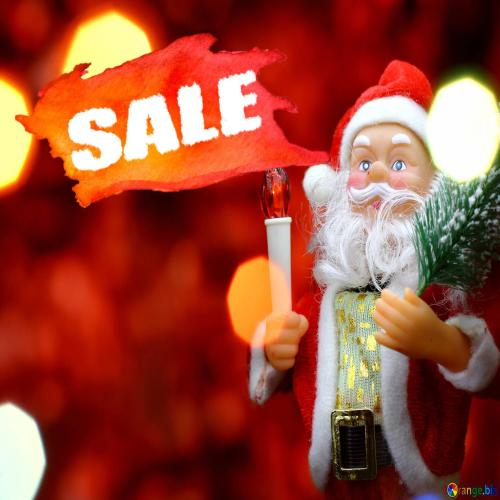Santa: (247, 58, 495, 500)
